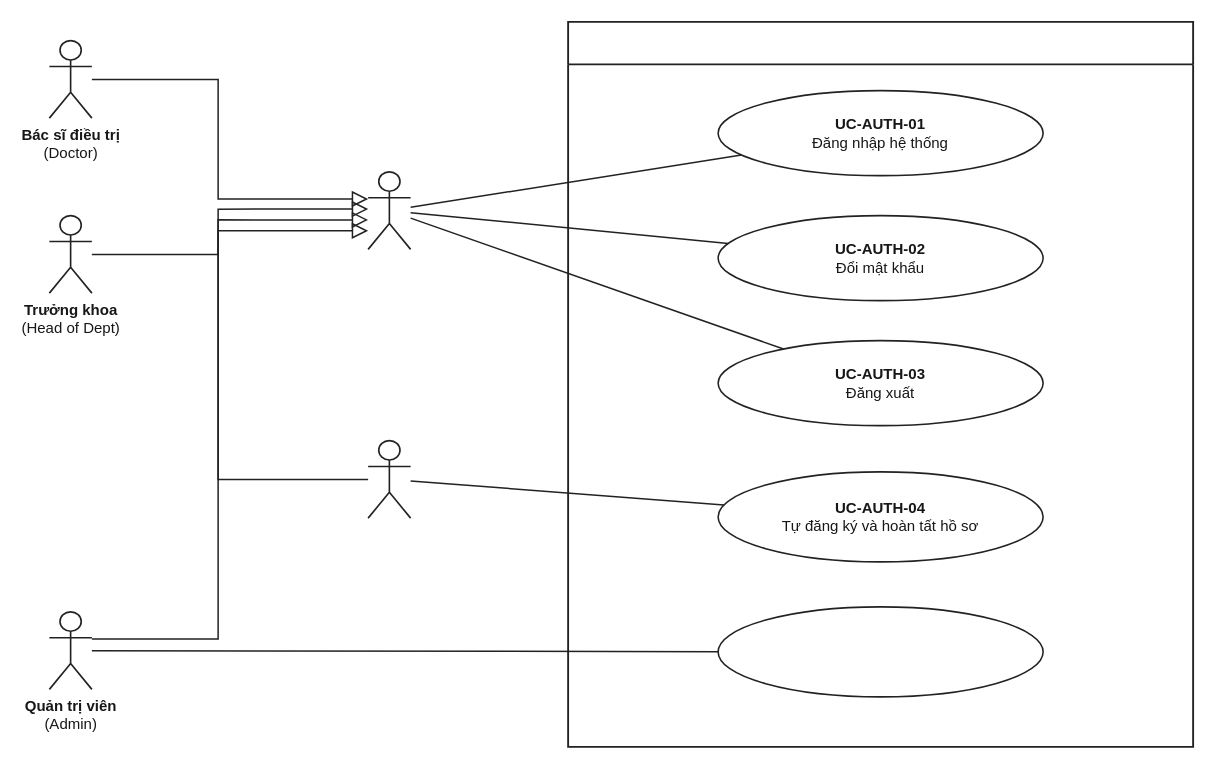
This 1216x770 diagram has some shape labels left out. The shapes that lost their labels are listed below. From the top down, each one's box as (x1, y1, x2, y2) in pixels, then its label:
(367, 170, 411, 250): «Abstract» Người dùng hệ thống (System User)
(567, 20, 1194, 747): Phân hệ I: Xác thực và Quản lý tài khoản
(367, 439, 411, 518): Bệnh nhân (Patient)
(717, 606, 1043, 697): UC-USER-01 Quản lý tài khoản người dùng
